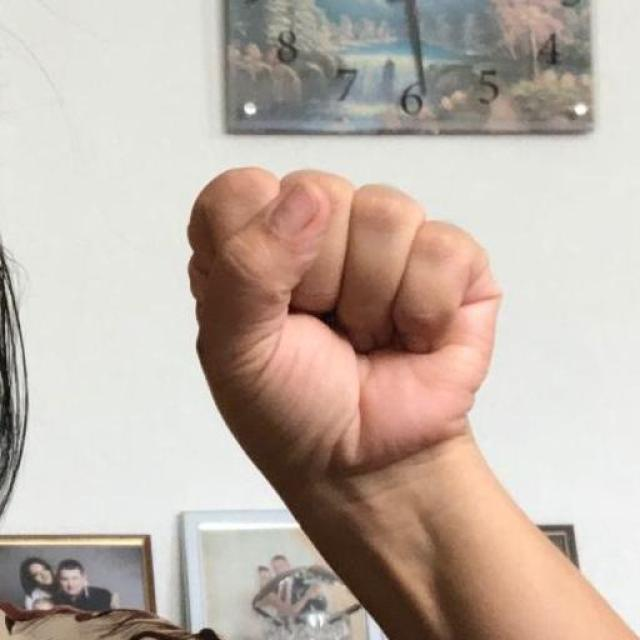hand: (185, 163, 503, 488)
